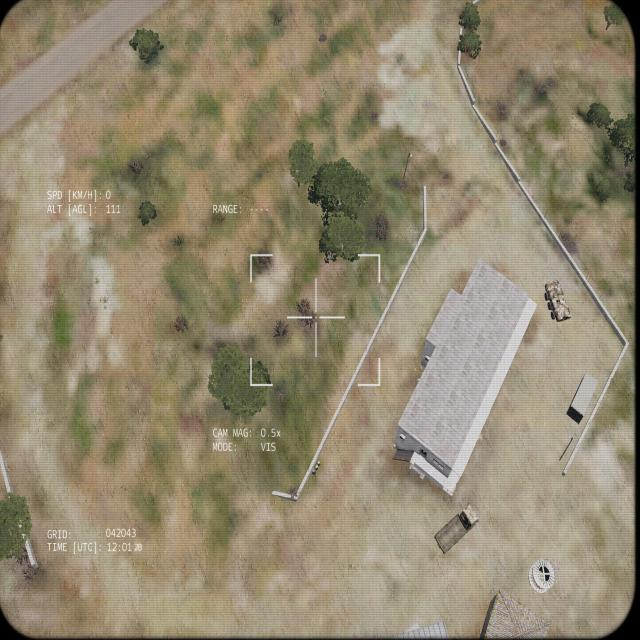apc: (544, 278, 572, 322)
truck: (433, 502, 479, 554)
